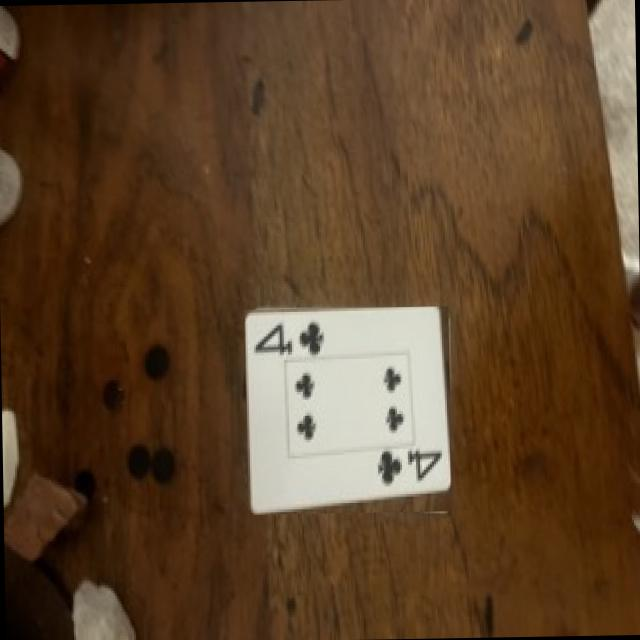4 of clubs: (245, 306, 451, 513)
